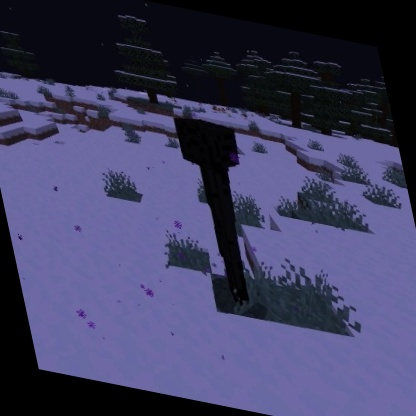enderman: (169, 111, 276, 313)
